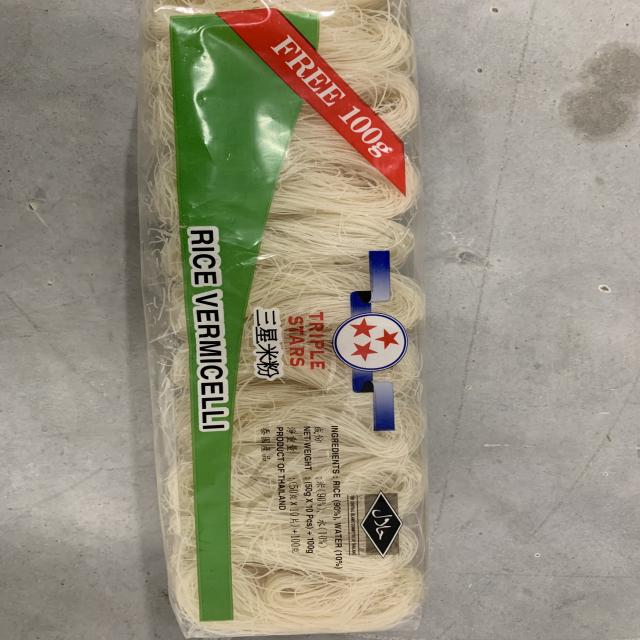object_name: (146, 5, 417, 640)
